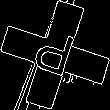P_S: (30, 25, 80, 85)
